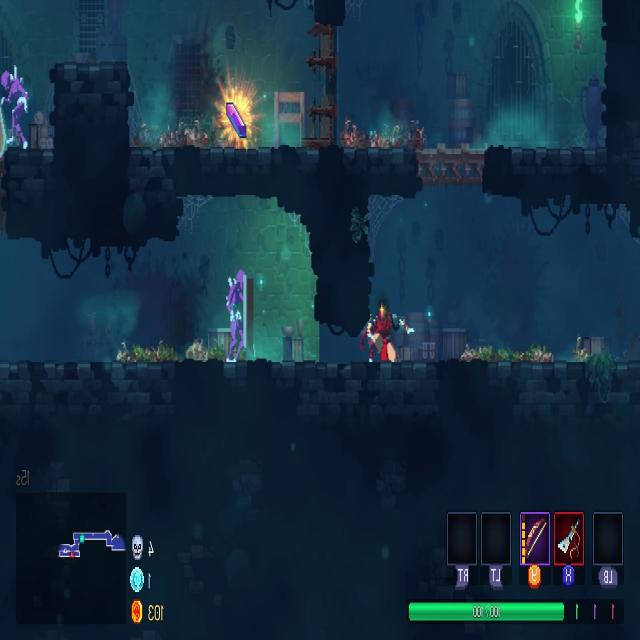agents: (364, 299, 406, 364)
enemy_purple_shield: (223, 271, 259, 362), (0, 66, 27, 150)
wood_floor: (414, 145, 486, 189)
